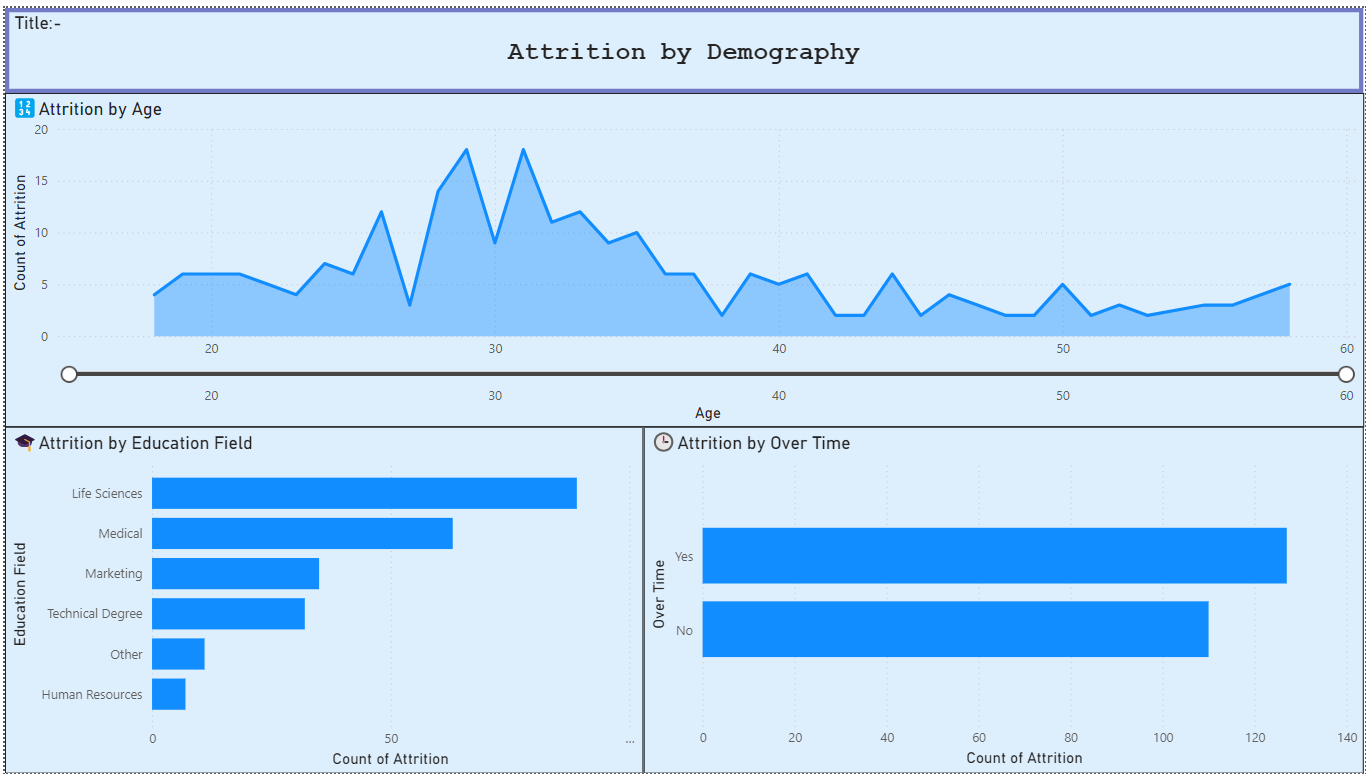

The page's visual inventory and layout, read from the dashboard file:
{"tool":"powerbi","page":{"name":"Page 3","canvas":[1280,720],"ordinal":2},"visuals":[{"type":"lineChart","title":"🔢Attrition by Age","fields":{"Y":["CountNonNull(WA_Fn-UseC_-HR-Employee-Attrition.Attrition)"],"Category":["WA_Fn-UseC_-HR-Employee-Attrition.Age","WA_Fn-UseC_-HR-Employee-Attrition.Work Life Balance"]},"box":[0,79.6,1278.9,314.2],"z":0},{"type":"clusteredBarChart","title":"🎓Attrition by Education Field","fields":{"Category":["WA_Fn-UseC_-HR-Employee-Attrition.Education Field"],"Y":["CountNonNull(WA_Fn-UseC_-HR-Employee-Attrition.Attrition)"]},"box":[0,393.8,601,326.6],"z":1000},{"type":"clusteredBarChart","title":" 🕒Attrition by Over Time","fields":{"Category":["WA_Fn-UseC_-HR-Employee-Attrition.Over Time"],"Y":["CountNonNull(WA_Fn-UseC_-HR-Employee-Attrition.Attrition)"]},"box":[601,393.8,677.9,326.2],"z":2000},{"type":"textbox","title":"Title:-","box":[0,0,1278.8,80],"z":2001}]}

Visuals, with their boxes in screenshot pixels (x1, y1, x2, y2), scaled from the page's 1280x720 canvas onto the 1366x774 screenshot:
"🔢Attrition by Age" lineChart: <region>0, 86, 1365, 423</region>
"🎓Attrition by Education Field" clusteredBarChart: <region>0, 423, 641, 773</region>
" 🕒Attrition by Over Time" clusteredBarChart: <region>641, 423, 1365, 773</region>
"Title:-" textbox: <region>0, 0, 1365, 86</region>
